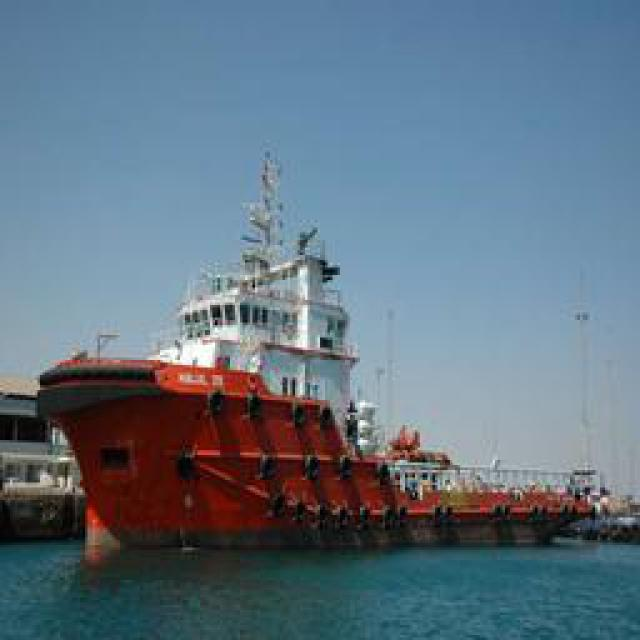Ship: (47, 135, 585, 550)
